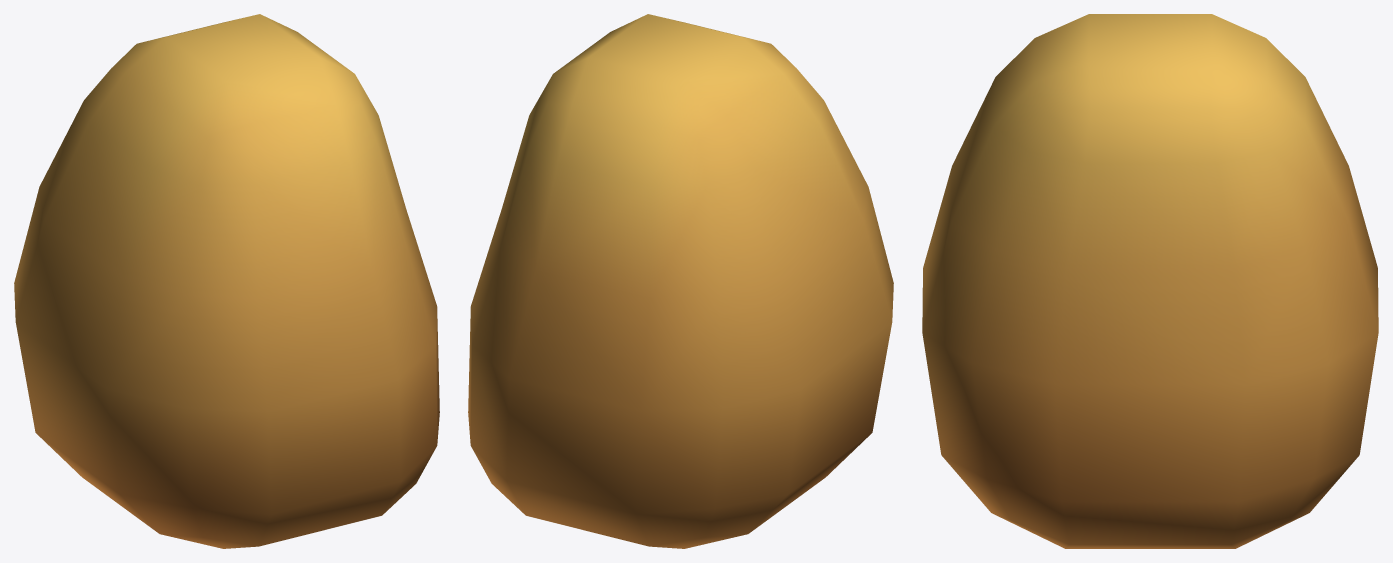
File: Potato-acwBoZQNdm.glb
3 views of the same model, side by side, from view 1: azimuth 30°, elevation 25°; view 2: azimuth 150°, elevation 25°; view 3: azimuth 270°, elevation 25° (orthographic). The views are drawn at different scales.
Parts seen in each view (by area): view 1: food_ingredient_potato; view 2: food_ingredient_potato; view 3: food_ingredient_potato.
Part boxes in pixels (box(x1,y1,x2,y2)): food_ingredient_potato: box(14, 14, 439, 548); food_ingredient_potato: box(468, 14, 893, 548); food_ingredient_potato: box(922, 14, 1378, 548).
Bounding box in the file's own units: 0.6 × 0.78 × 0.68.
1 material, 1 textured.
